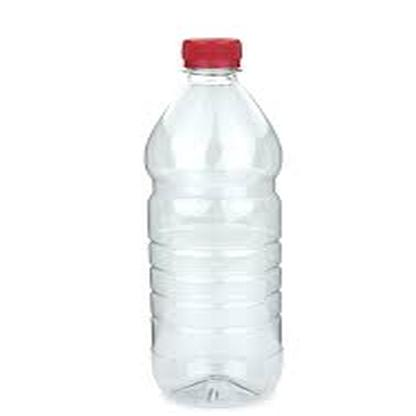plastic bottle: (144, 35, 283, 404)
